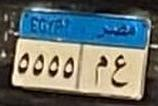5: (31, 51, 46, 76), (47, 54, 61, 80), (62, 55, 76, 80), (17, 50, 31, 75)
ain: (109, 52, 129, 89)
meem: (90, 53, 109, 86)
